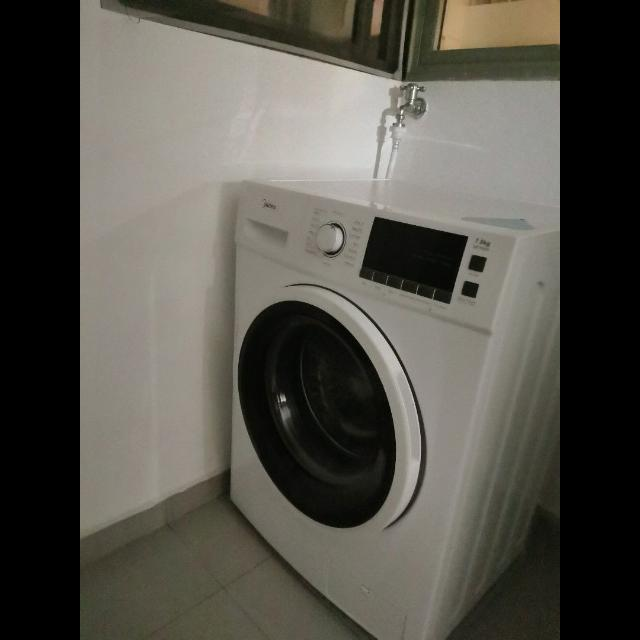Washing-Machine: (232, 177, 560, 625)
